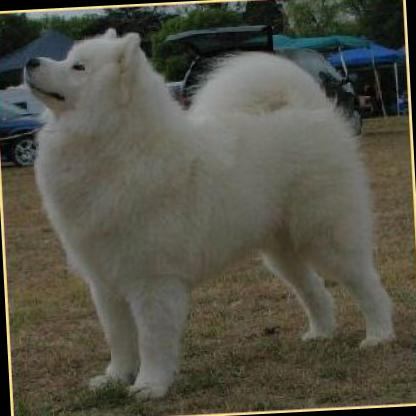Samoyed: (16, 11, 398, 405)
